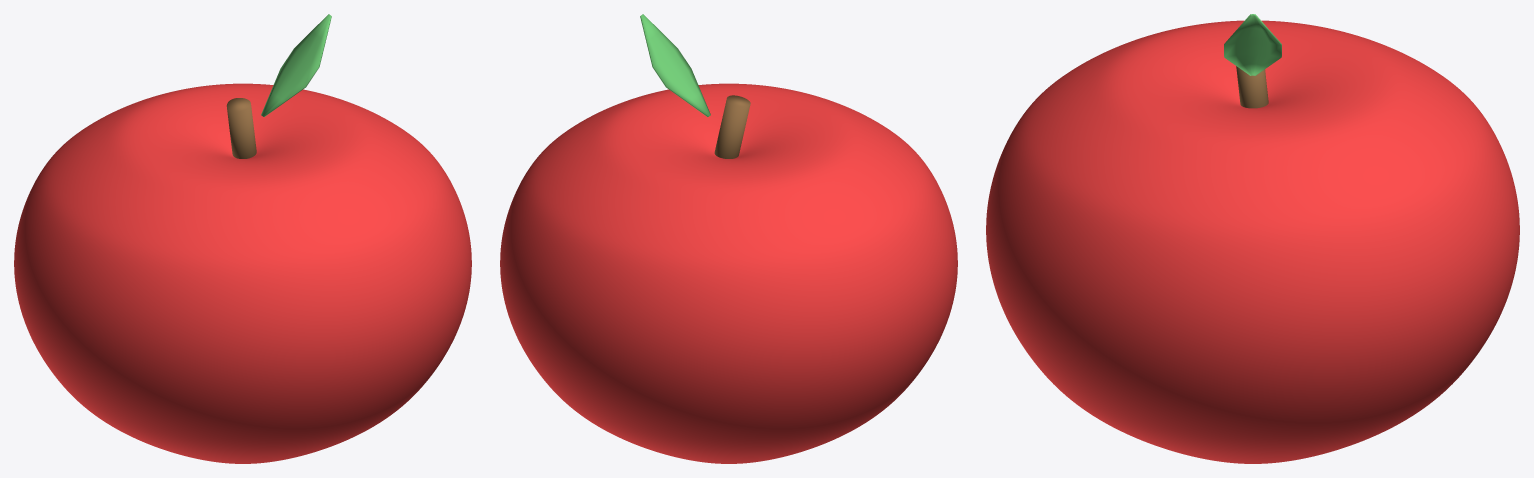
Rendered from Apple_Opus48.glb.
3 views of the same model, side by side, from view 1: azimuth 30°, elevation 25°; view 2: azimuth 150°, elevation 25°; view 3: azimuth 270°, elevation 25° (orthographic). The views are drawn at different scales.
Parts seen in each view (by area): view 1: Apple_Body, Apple_Leaf, Apple_Stem; view 2: Apple_Body, Apple_Leaf, Apple_Stem; view 3: Apple_Body, Apple_Leaf, Apple_Stem.
Part boxes in pixels (x1,y1,x2,y2): Apple_Body: [14, 83, 471, 463]; Apple_Leaf: [261, 14, 331, 116]; Apple_Stem: [226, 98, 256, 158]; Apple_Body: [500, 83, 957, 463]; Apple_Leaf: [640, 14, 710, 116]; Apple_Stem: [714, 95, 750, 158]; Apple_Body: [986, 20, 1519, 463]; Apple_Leaf: [1224, 14, 1281, 75]; Apple_Stem: [1236, 66, 1268, 108].
Size of the model in its own units: 2.07 by 2.07 by 2.07.
